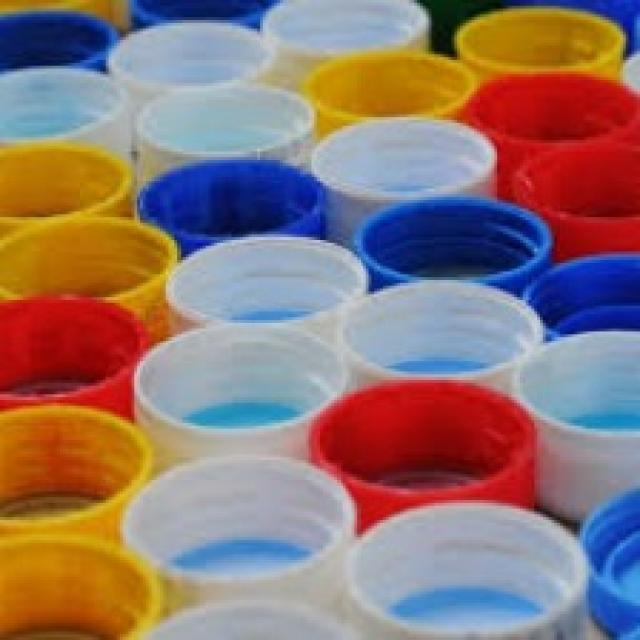plastic: (122, 459, 363, 602), (324, 276, 554, 389)
